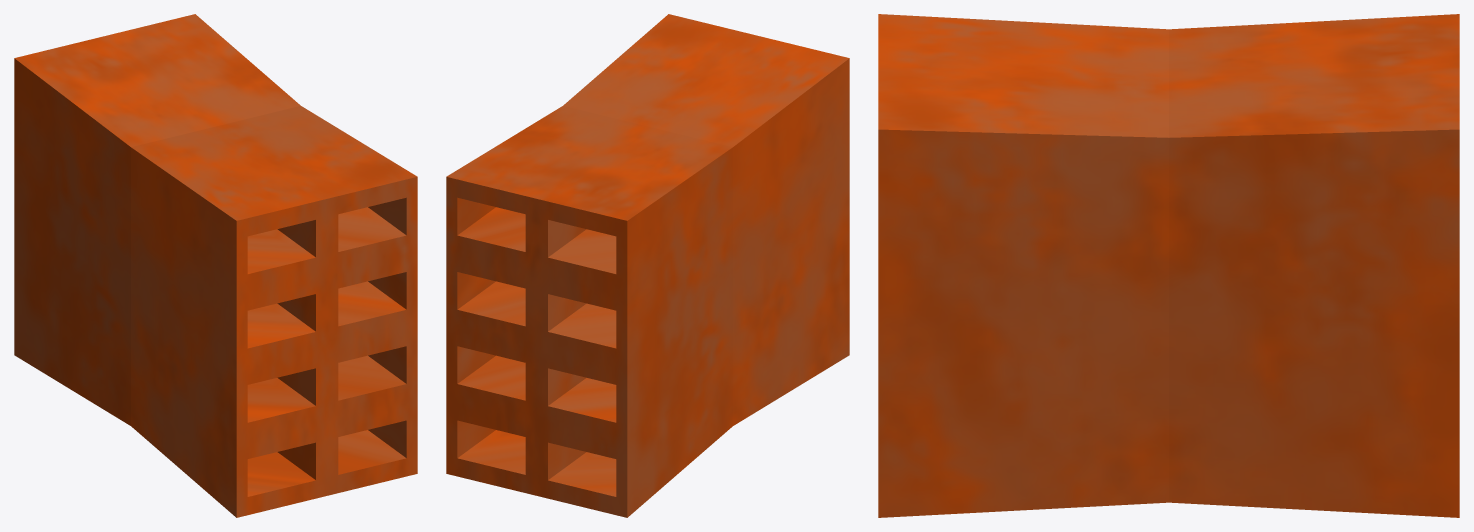
File: tijolo.fbx
3 renders of one model, left to right at view 1: azimuth 30°, elevation 25°; view 2: azimuth 150°, elevation 25°; view 3: azimuth 270°, elevation 25°, orthographic. The views are drawn at different scales.
Visible parts, largest first — view 1: tijolo; view 2: tijolo; view 3: tijolo.
Boxes of the visible parts, left/top/right/bottom form: tijolo: left=14, top=14, right=417, bottom=517; tijolo: left=446, top=14, right=849, bottom=517; tijolo: left=878, top=14, right=1459, bottom=517.
Bounding box in the file's own units: 15.39 × 24.12 × 32.73.
